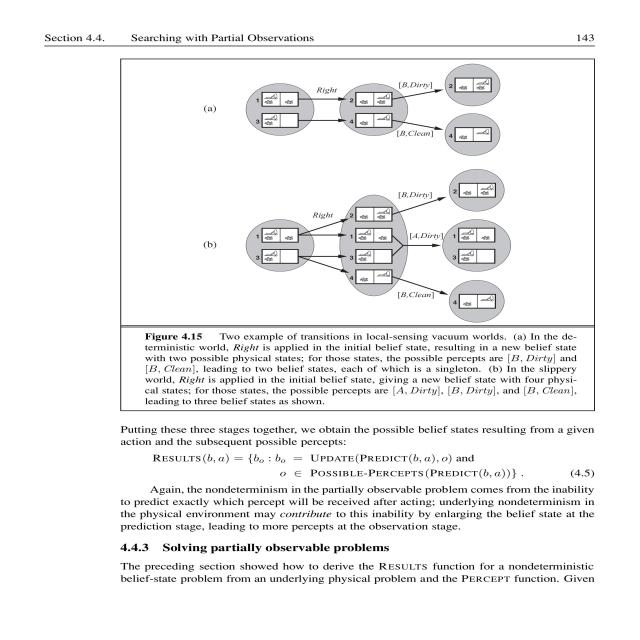diagram: (103, 51, 622, 413)
